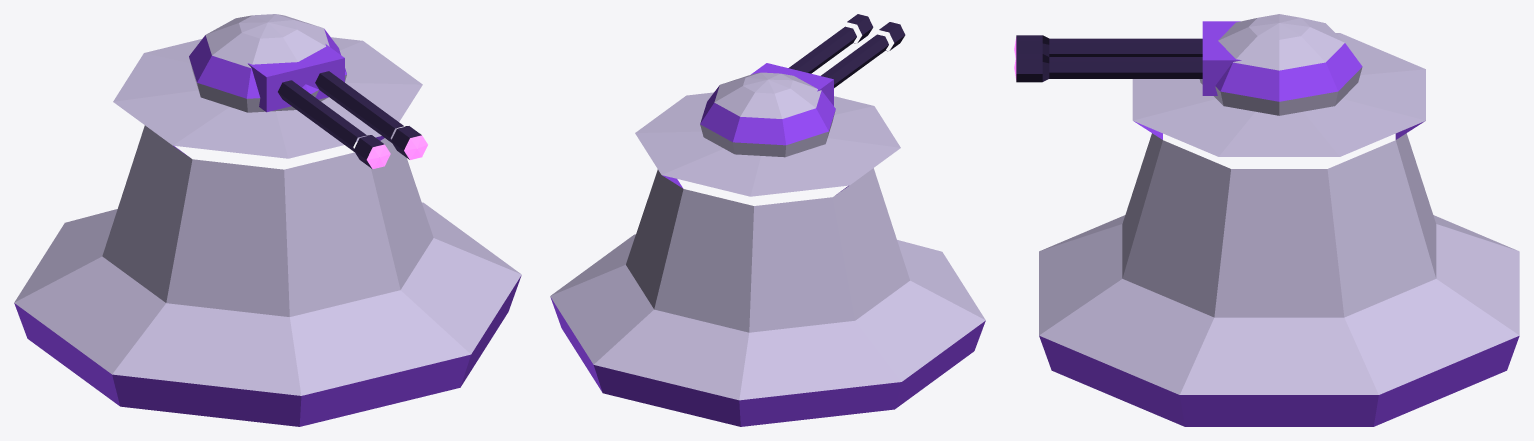
File: rts.turret.glb
3 views of the same model, side by side, from view 1: azimuth 30°, elevation 25°; view 2: azimuth 150°, elevation 25°; view 3: azimuth 270°, elevation 25° (orthographic). The views are drawn at different scales.
Visible parts, largest first — view 1: rts.turret; view 2: rts.turret; view 3: rts.turret.
Part boxes in pixels (x1=…): rts.turret: x1=14, y1=14, x2=521, y2=426; rts.turret: x1=550, y1=14, x2=985, y2=426; rts.turret: x1=1014, y1=14, x2=1519, y2=426.
Size of the model in its own units: 1.76 by 1.24 by 1.85.
